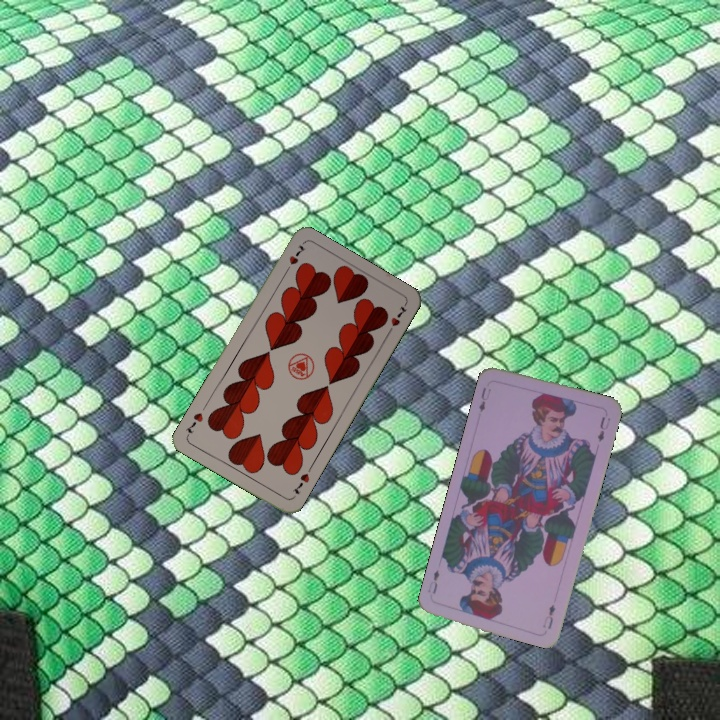EU: (474, 383, 493, 415), (539, 600, 558, 631)
H7: (280, 241, 308, 276), (288, 469, 312, 497)
